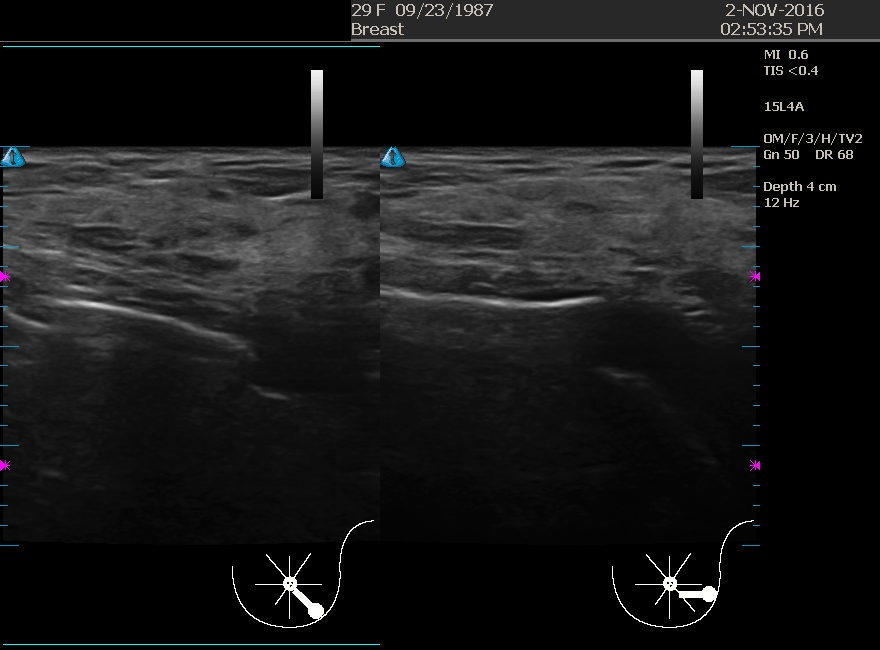BIRADS_2: (33, 151, 233, 351)
BIRADS_3: (385, 205, 585, 405)
